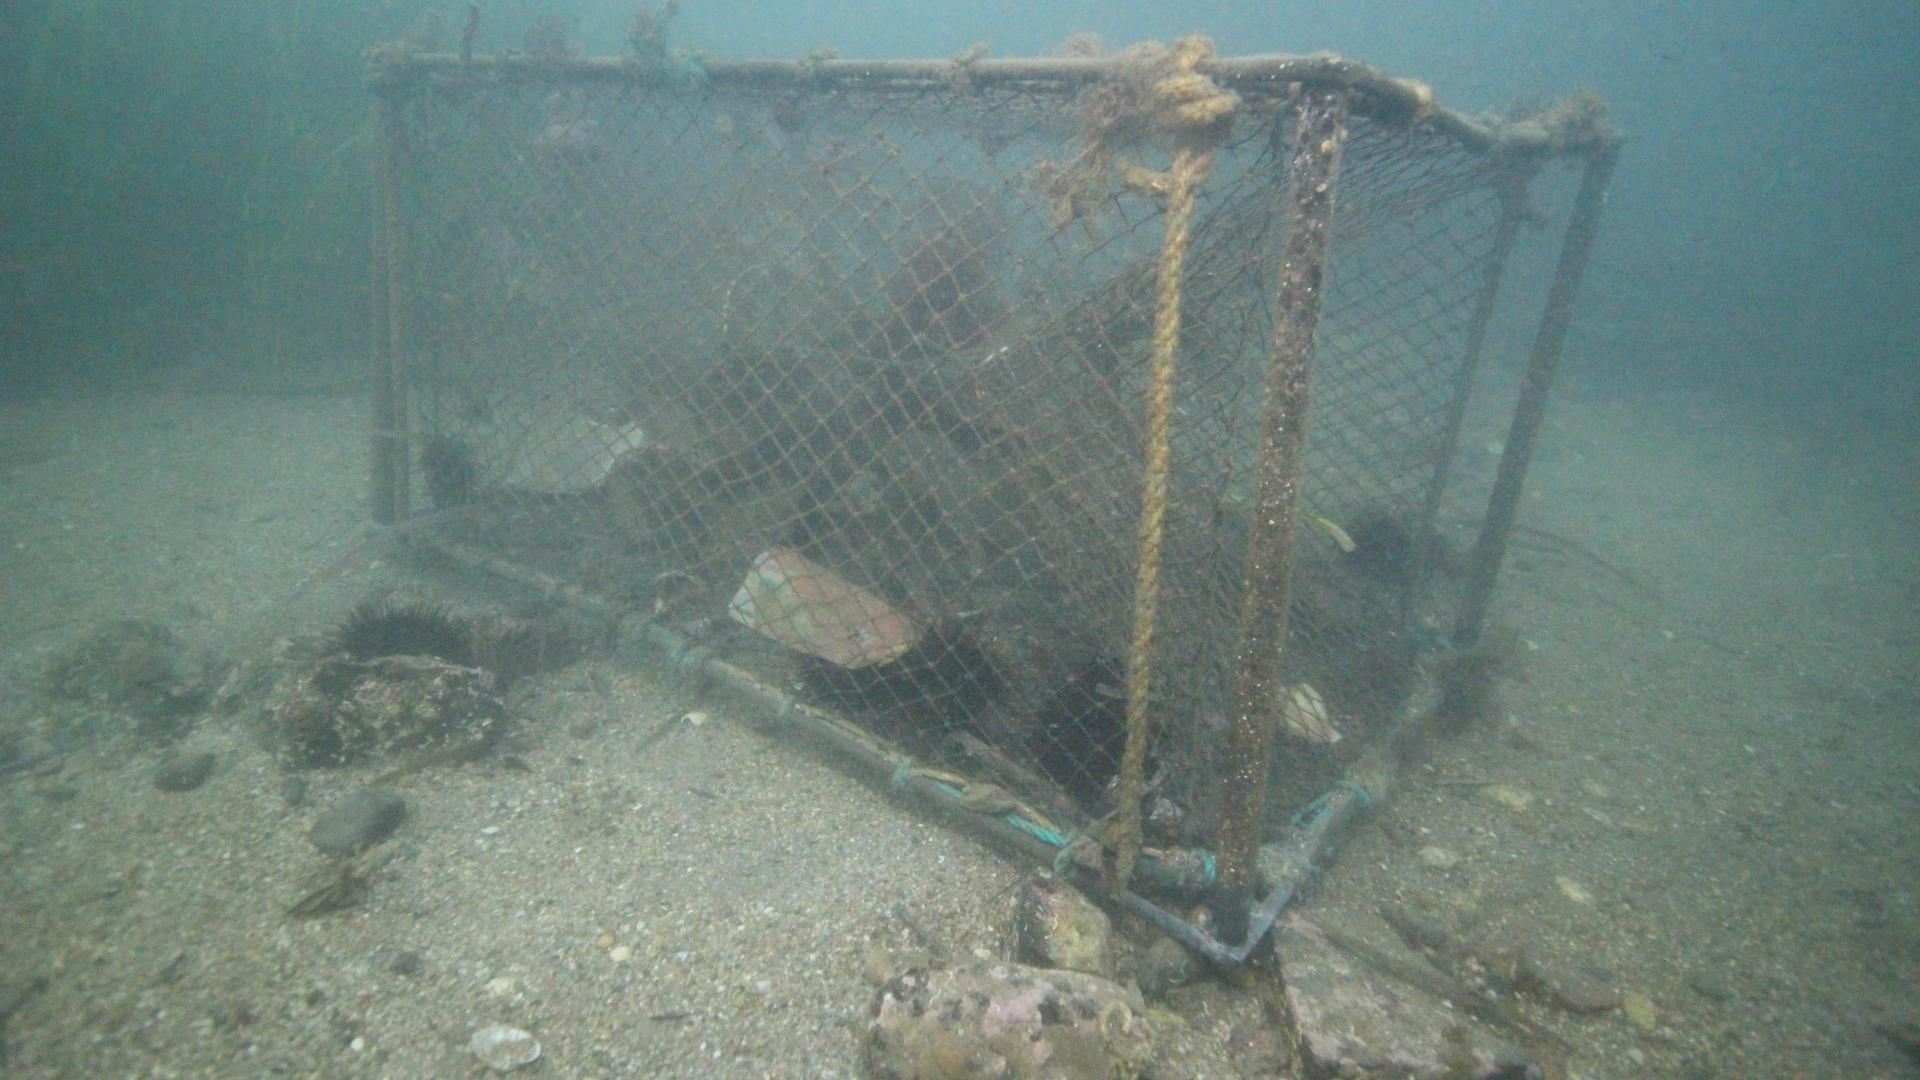rectangular fish trap: (367, 47, 1625, 982)
